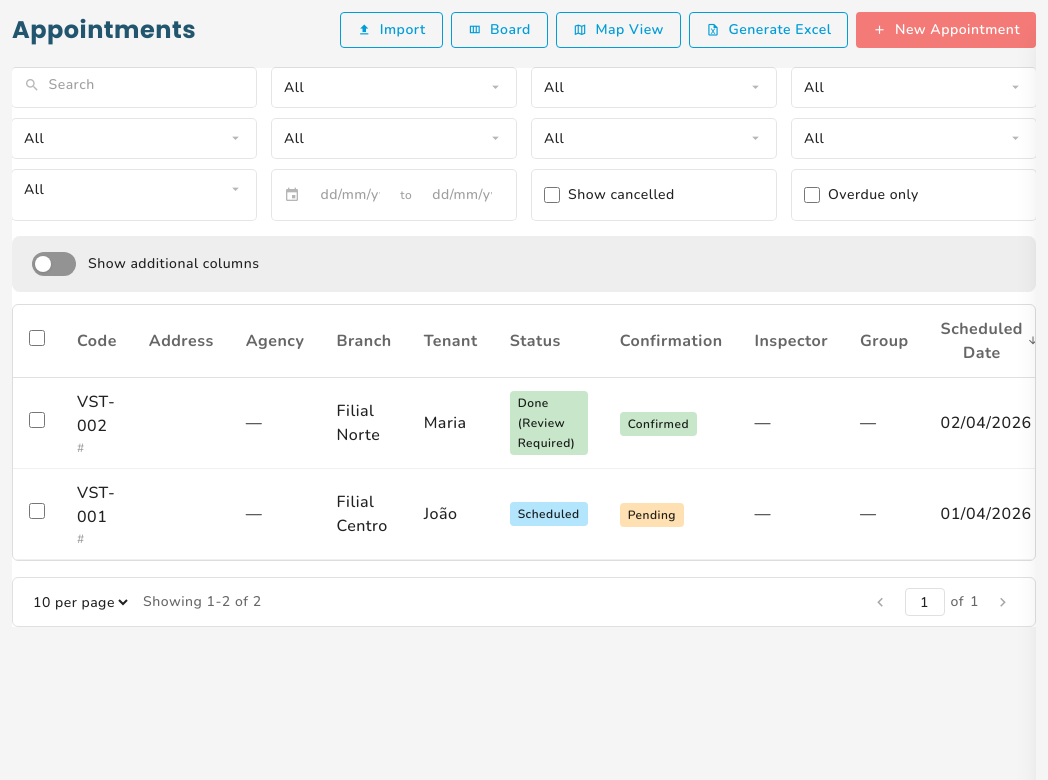
Test: AppointmentListPage › agency and inspector scoping › offers the branches of the loaded rows when no agency is picked
The image size is (1048, 780).
Step 1. Click the button with aria-label "Branch" → x=134, y=138, box [12,119,256,158]
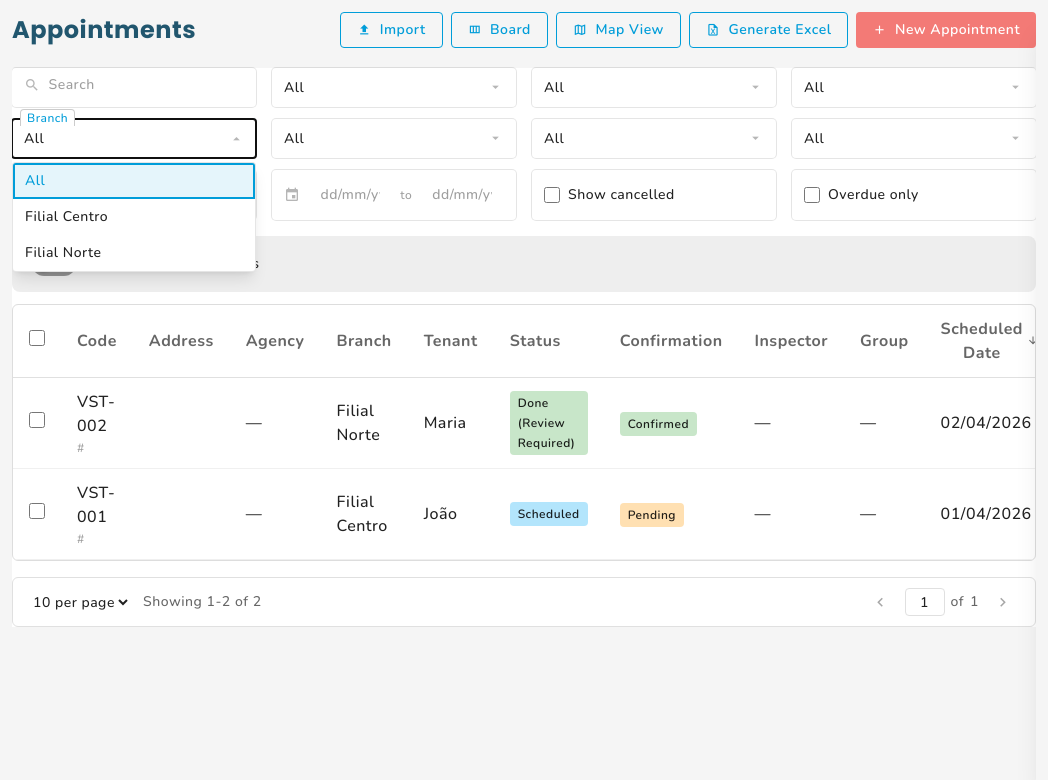
Expected: the option "Filial Centro" is shown, [25,207,108,226]
Expected: the option "Filial Norte" is shown, [25,243,101,262]
